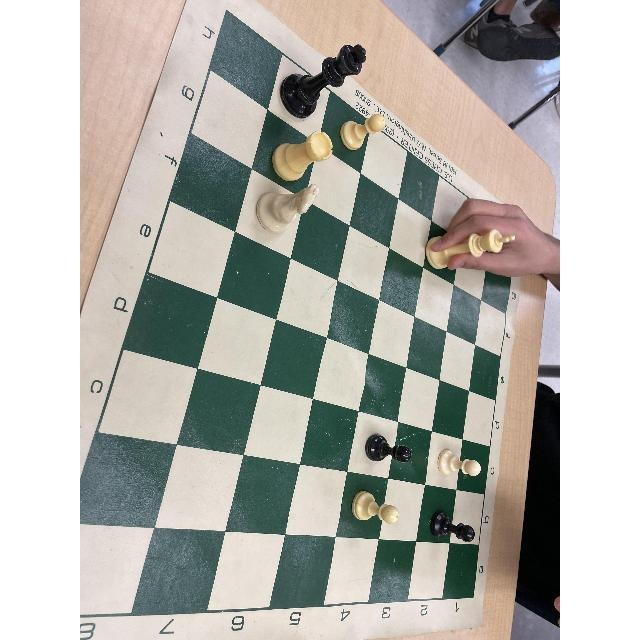black-king: (280, 44, 371, 118)
black-pawn: (428, 510, 478, 544), (364, 433, 412, 464)
white-king: (423, 229, 516, 271)
white-knight: (256, 185, 319, 235)
white-pawn: (340, 112, 388, 151), (351, 490, 401, 526), (438, 448, 482, 479)
white-rook: (269, 132, 332, 182)
